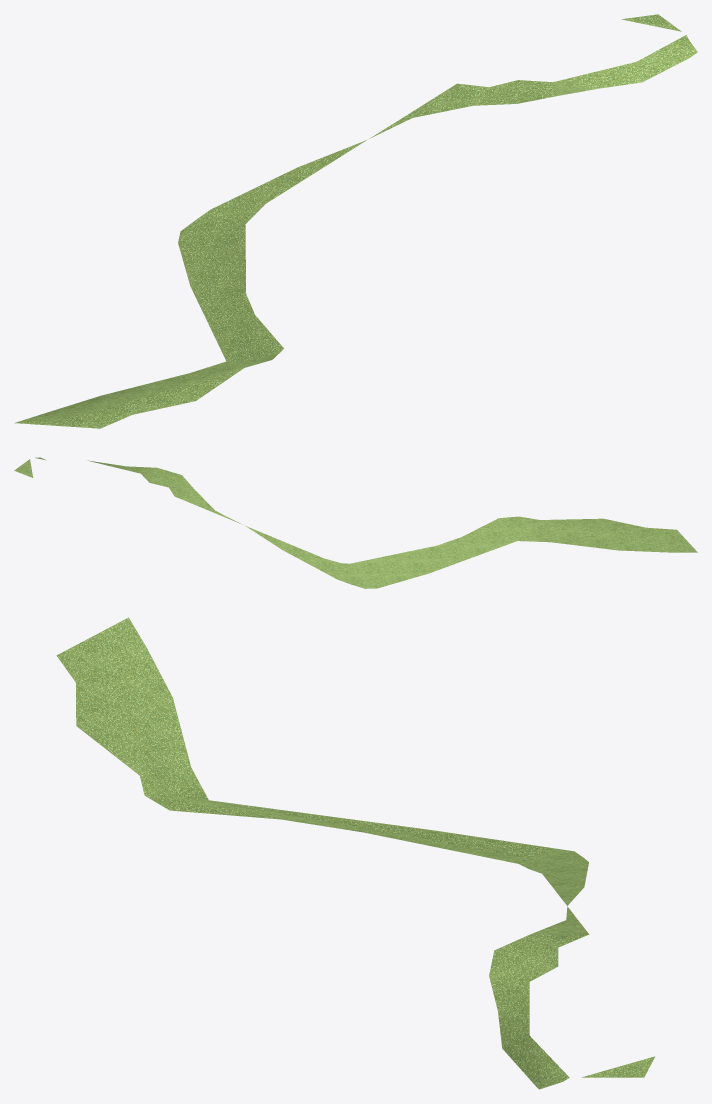
Rendered from kd_stage_13612f_0_14_bounded.glb.
3 renders of one model, top to bottom at view 1: azimuth 30°, elevation 25°; view 2: azimuth 150°, elevation 25°; view 3: azimuth 270°, elevation 25°, orthographic. The views are drawn at different scales.
Parts seen in each view (by area): view 1: kd_stage_13612f_0_14_bounded; view 2: kd_stage_13612f_0_14_bounded; view 3: kd_stage_13612f_0_14_bounded.
Boxes of the visible parts, <box> form: kd_stage_13612f_0_14_bounded: <box>14,14,697,428</box>; kd_stage_13612f_0_14_bounded: <box>14,457,697,588</box>; kd_stage_13612f_0_14_bounded: <box>56,617,655,1089</box>.
Bounding box in the file's own units: 77.08 × 7.13 × 36.02.
Materials: 1 (1 with a texture image).
